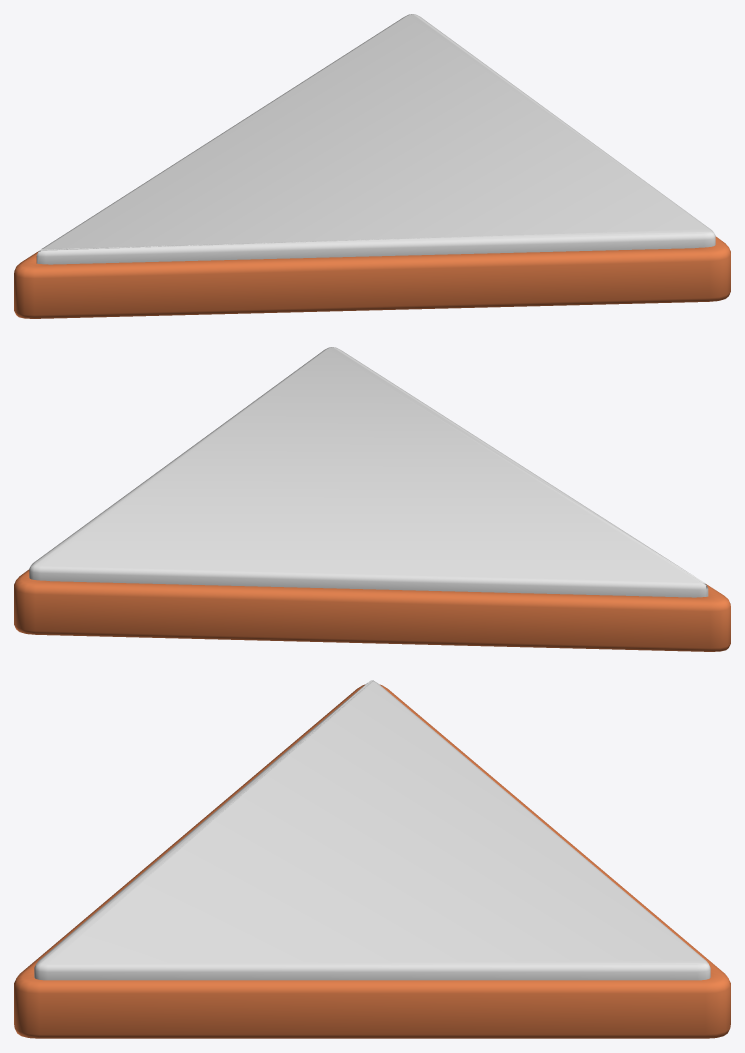
The model's file is Arrow.fbx.
3 views of the same model, one above another, from view 1: azimuth 30°, elevation 25°; view 2: azimuth 150°, elevation 25°; view 3: azimuth 270°, elevation 25° (orthographic). The views are drawn at different scales.
Visible parts, largest first — view 1: Arrow; view 2: Arrow; view 3: Arrow.
Part boxes in pixels (x1=…): Arrow: x1=14, y1=14, x2=730, y2=318; Arrow: x1=14, y1=347, x2=730, y2=651; Arrow: x1=14, y1=680, x2=730, y2=1038.
Size of the model in its own units: 194 by 20.62 by 192.
